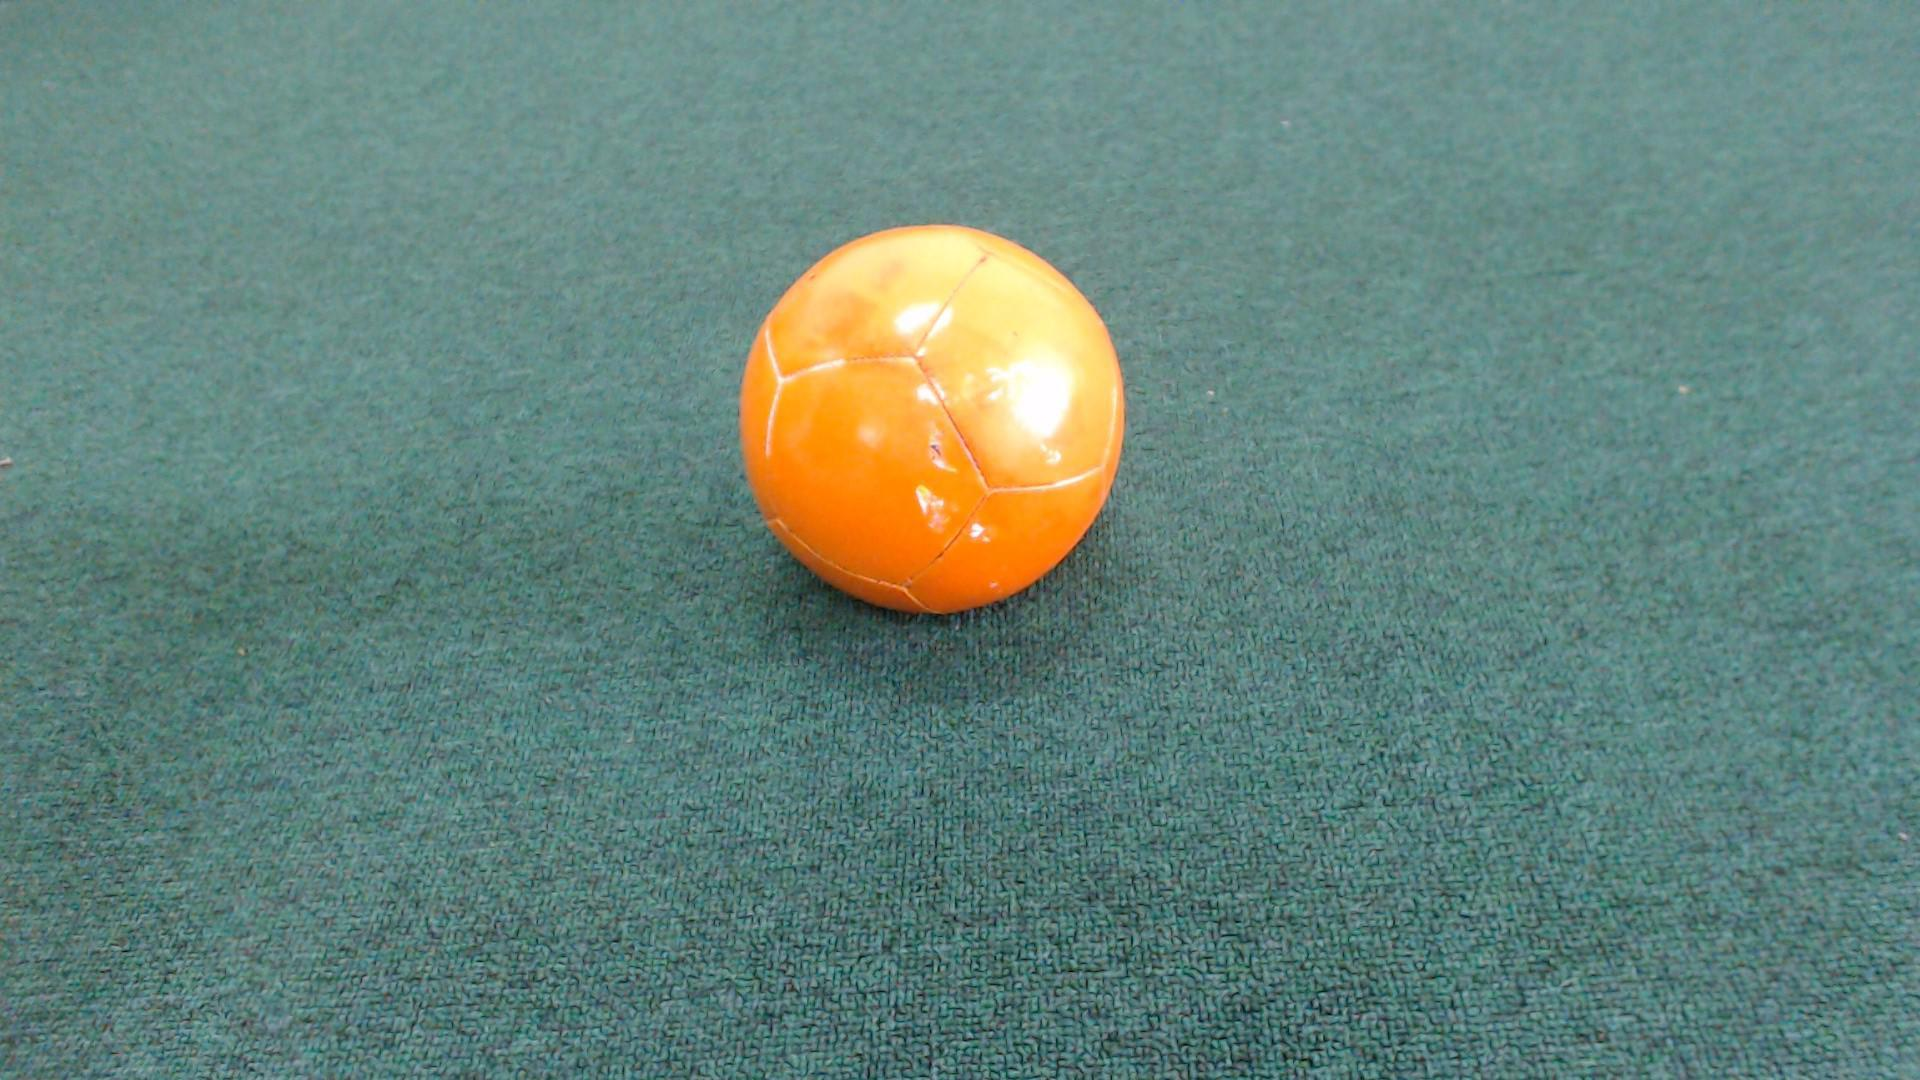bola: (702, 212, 1143, 624)
